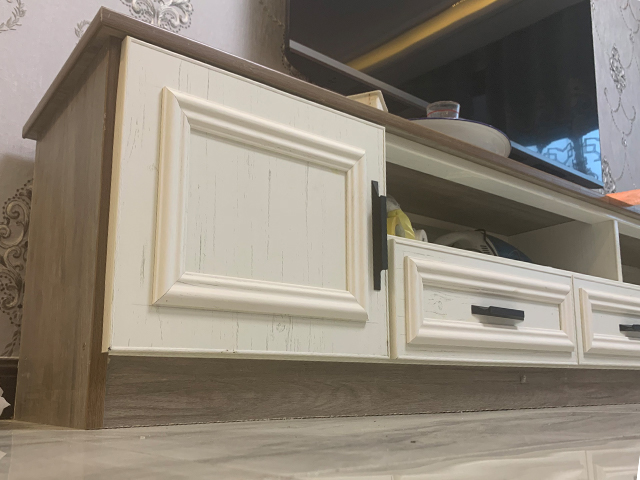cabinet: (5, 33, 640, 433)
